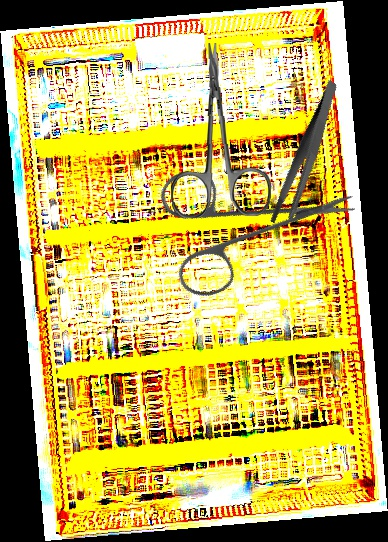Dressing Forceps: (241, 79, 372, 231)
Iris Scissors: (122, 105, 361, 344), (165, 41, 273, 219)
